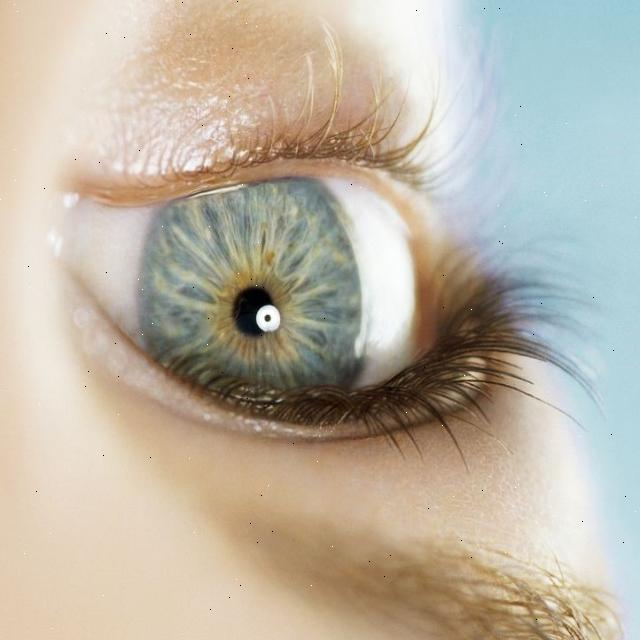Normal: (132, 182, 368, 436)
